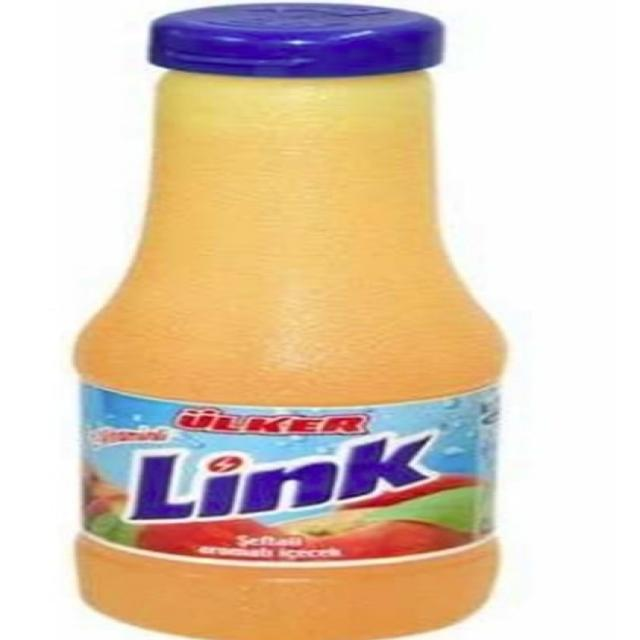yan_yemek: (68, 0, 511, 639)
